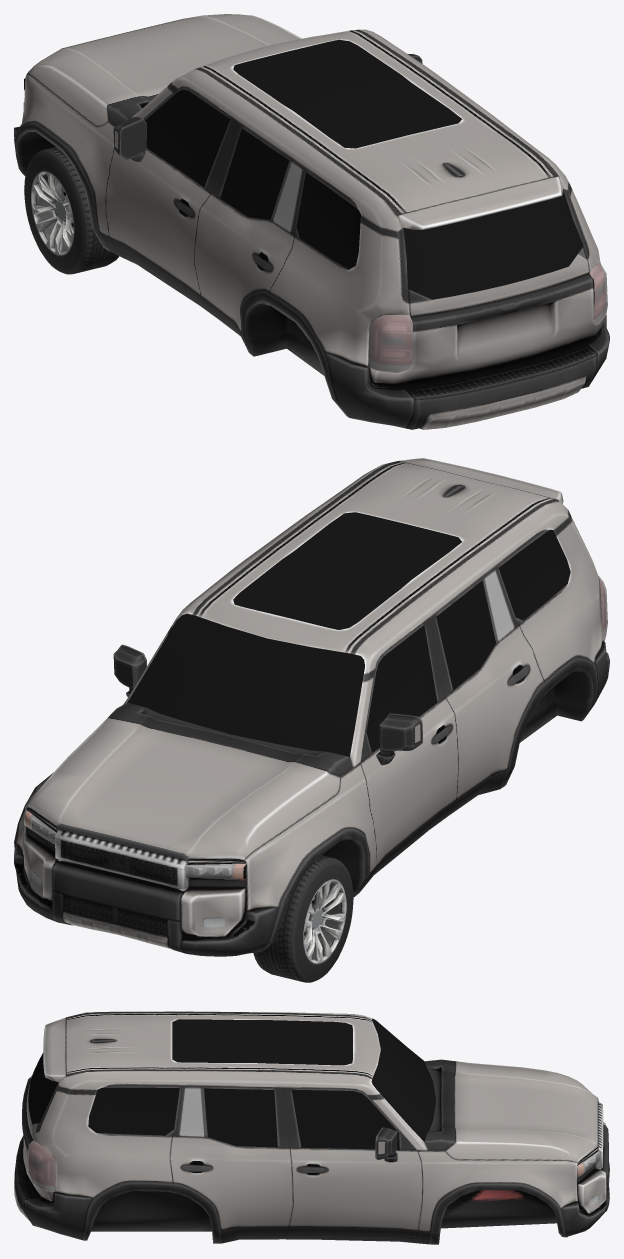
The model's file is car 32.fbx.
3 renders of one model, top to bottom at view 1: azimuth 30°, elevation 25°; view 2: azimuth 150°, elevation 25°; view 3: azimuth 270°, elevation 25°, orthographic. The views are drawn at different scales.
Parts seen in each view (by area): view 1: body, tyer, light; view 2: body, tyer, light; view 3: body, light.
Part boxes in pixels (<box>): body: <box>14,14,609,429</box>; tyer: <box>24,147,119,274</box>; light: <box>369,262,605,366</box>; body: <box>14,458,609,956</box>; tyer: <box>253,855,353,982</box>; light: <box>25,581,605,879</box>; body: <box>14,1011,609,1244</box>; light: <box>28,1141,599,1185</box>.
Size of the model in its own units: 247 by 204 by 561.
2 materials, 1 textured.
